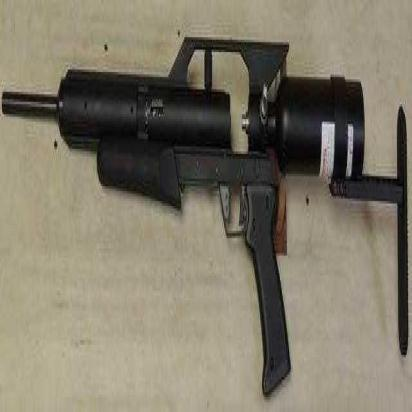Gun: (0, 22, 412, 407)
